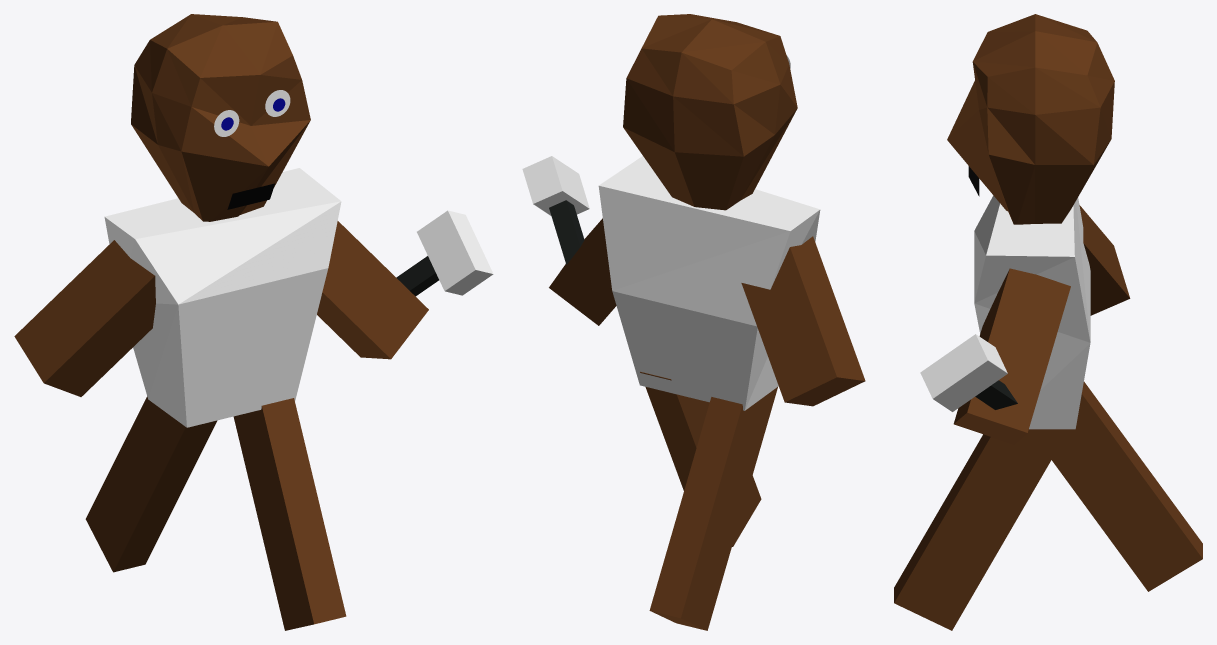
Rendered from slave3.obj.
The picture shows the model from 3 angles, left to right: view 1: azimuth 30°, elevation 25°; view 2: azimuth 150°, elevation 25°; view 3: azimuth 270°, elevation 25°; orthographic projection. The views are drawn at different scales.
Parts seen in each view (by area): view 1: Cube.001, Cube, Cube.005, Cube.003, Cube.004, Cube.002, Cube.008, Cube.007, Plane; view 2: Cube.001, Cube, Cube.004, Cube.003, Cube.005, Cube.002, Cube.008, Cube.007; view 3: Cube, Cube.005, Cube.004, Cube.001, Cube.002, Cube.008, Cube.003, Cube.007.
Boxes of the visible parts, bbox=[...] form: Cube.001: bbox=[104, 168, 341, 427]; Cube: bbox=[131, 14, 310, 221]; Cube.005: bbox=[233, 398, 346, 630]; Cube.003: bbox=[14, 240, 155, 396]; Cube.004: bbox=[85, 396, 217, 572]; Cube.002: bbox=[317, 221, 428, 359]; Cube.008: bbox=[417, 210, 493, 295]; Cube.007: bbox=[396, 256, 438, 296]; Plane: bbox=[227, 183, 274, 209]; Cube.001: bbox=[598, 156, 820, 410]; Cube: bbox=[623, 14, 797, 210]; Cube.004: bbox=[649, 387, 777, 630]; Cube.003: bbox=[741, 236, 865, 406]; Cube.005: bbox=[640, 371, 761, 546]; Cube.002: bbox=[549, 218, 616, 325]; Cube.008: bbox=[522, 156, 589, 215]; Cube.007: bbox=[549, 200, 584, 264]; Cube: bbox=[947, 14, 1114, 224]; Cube.005: bbox=[894, 429, 1068, 630]; Cube.004: bbox=[1052, 381, 1202, 591]; Cube.001: bbox=[974, 195, 1090, 429]; Cube.002: bbox=[953, 268, 1070, 444]; Cube.008: bbox=[920, 334, 1007, 411]; Cube.003: bbox=[1079, 205, 1130, 315]; Cube.007: bbox=[975, 380, 1017, 409].
Bounding box in the file's own units: 4.16 × 5.94 × 2.9.
